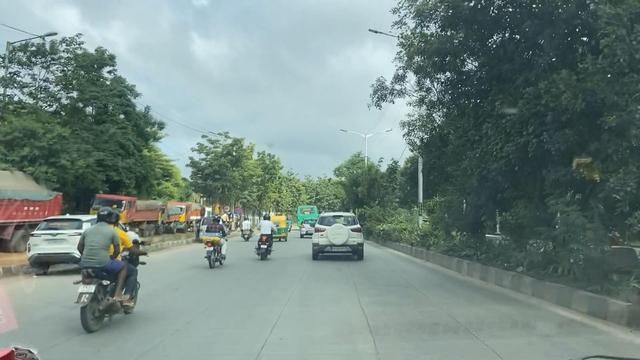LMV: (76, 203, 149, 336), (301, 205, 365, 264), (245, 184, 282, 275), (196, 207, 231, 266)
